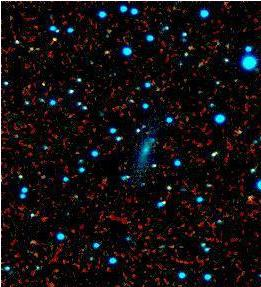star: (40, 23, 70, 53)
